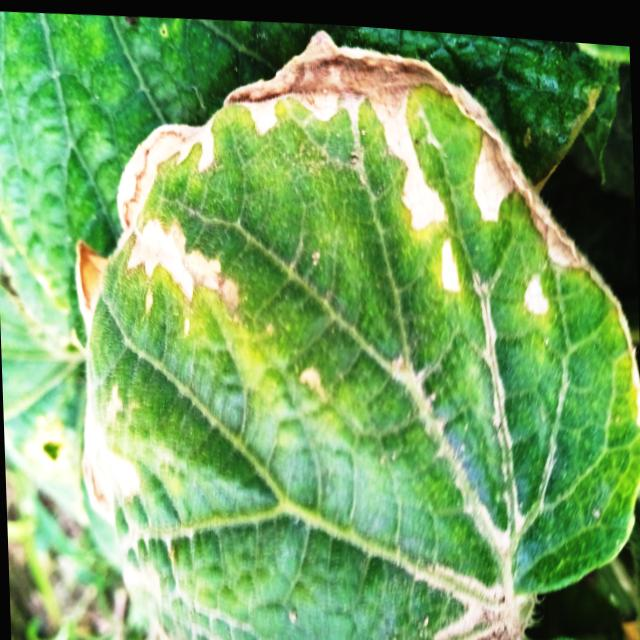Gummy-Stem-Blight: (111, 28, 640, 429), (81, 376, 145, 535)
